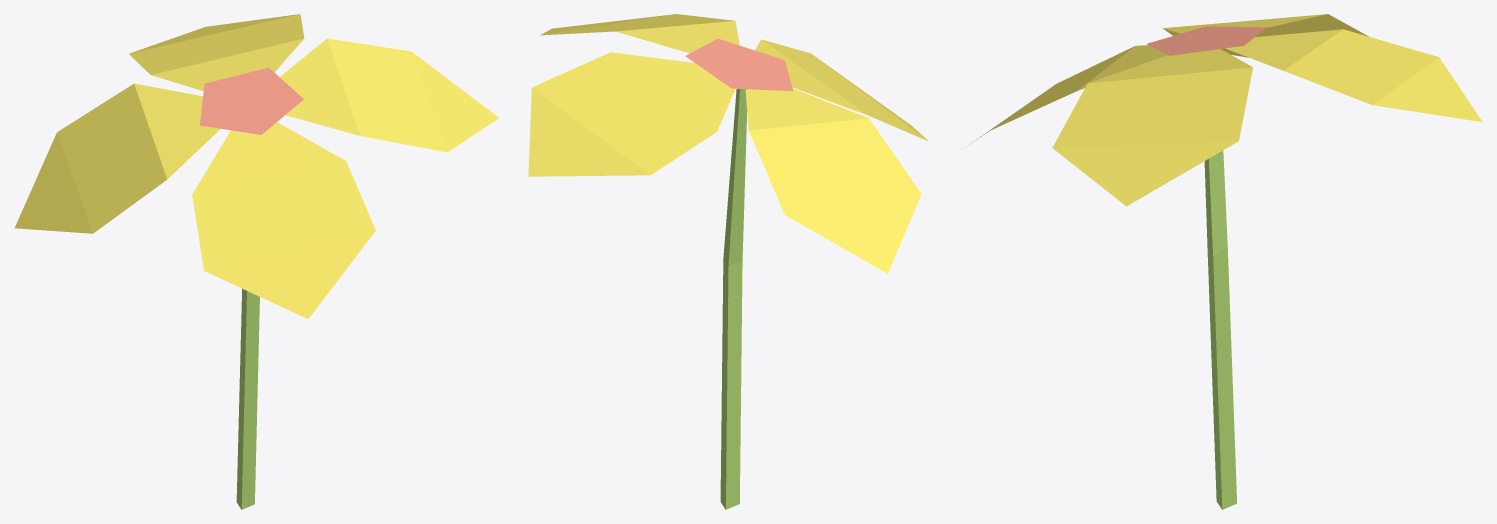
The model's file is Flower_d_OneS_02.fbx.
3 views of the same model, side by side, from view 1: azimuth 30°, elevation 25°; view 2: azimuth 150°, elevation 25°; view 3: azimuth 270°, elevation 25° (orthographic). The views are drawn at different scales.
Parts seen in each view (by area): view 1: Flower_d_OneS_02; view 2: Flower_d_OneS_02; view 3: Flower_d_OneS_02.
Boxes of the visible parts, <box> form: Flower_d_OneS_02: <box>14,14,498,509</box>; Flower_d_OneS_02: <box>528,14,928,509</box>; Flower_d_OneS_02: <box>969,14,1482,509</box>.
Bounding box in the file's own units: 0.2384 × 0.2467 × 0.2395.
